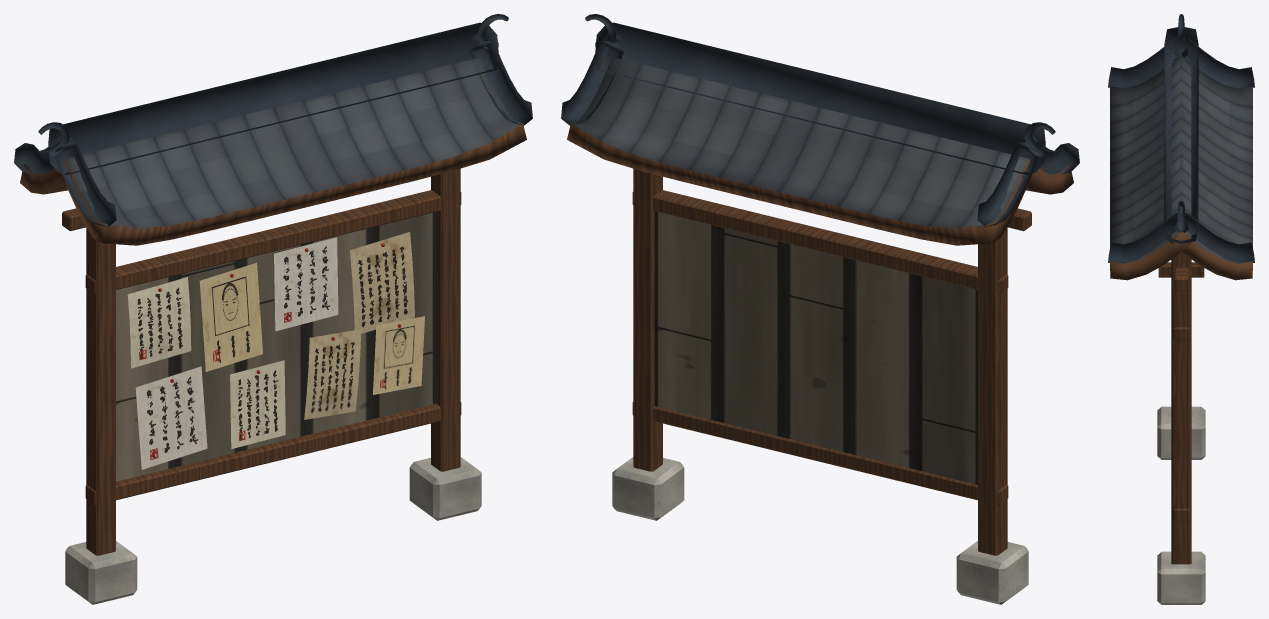
Rendered from notice_board.glb.
3 views of the same model, side by side, from view 1: azimuth 30°, elevation 25°; view 2: azimuth 150°, elevation 25°; view 3: azimuth 270°, elevation 25° (orthographic). The views are drawn at different scales.
Parts seen in each view (by area): view 1: BoardRoof, Notices, BoardPosts, BoardPlanks, BoardRoofRidge, BoardFootings; view 2: BoardPlanks, BoardRoof, BoardPosts, BoardRoofRidge, BoardFootings; view 3: BoardRoof, BoardRoofRidge, BoardPosts, BoardFootings.
Boxes of the visible parts, x1,y1,x2,y2 form: BoardRoof: (20, 57, 526, 245); Notices: (127, 232, 424, 469); BoardPosts: (62, 168, 461, 555); BoardPlanks: (116, 212, 435, 481); BoardRoofRidge: (14, 14, 532, 226); BoardFootings: (65, 457, 481, 604); BoardPlanks: (654, 211, 977, 484); BoardRoof: (567, 57, 1073, 245); BoardPosts: (632, 168, 1031, 555); BoardRoofRidge: (561, 14, 1079, 226); BoardFootings: (612, 457, 1028, 604); BoardRoof: (1110, 55, 1252, 280); BoardRoofRidge: (1108, 14, 1254, 263); BoardPosts: (1158, 252, 1204, 564); BoardFootings: (1157, 406, 1205, 604).
Size of what is drawn, in the model's own units: 3.27 by 3.2 by 1.03.
7 materials, 6 textured.
